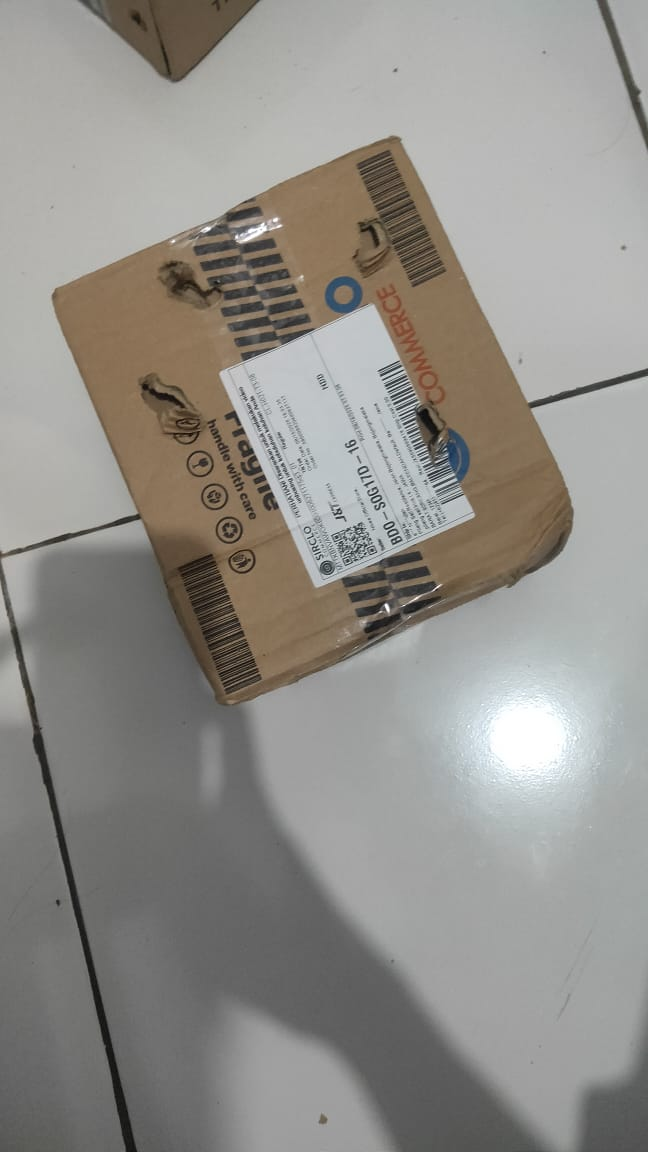damaged package: (132, 370, 210, 443), (150, 256, 227, 314), (412, 393, 452, 469), (351, 217, 392, 278)
undamaged: (52, 137, 574, 711)
